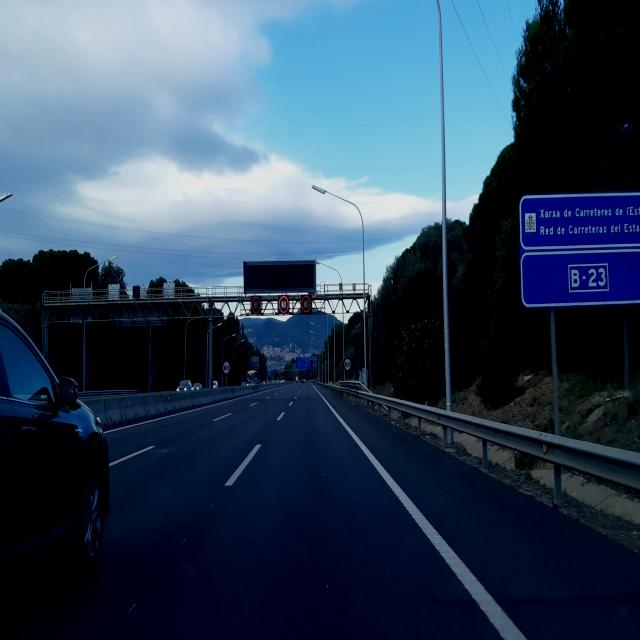car: (0, 313, 109, 622), (176, 379, 194, 392)
